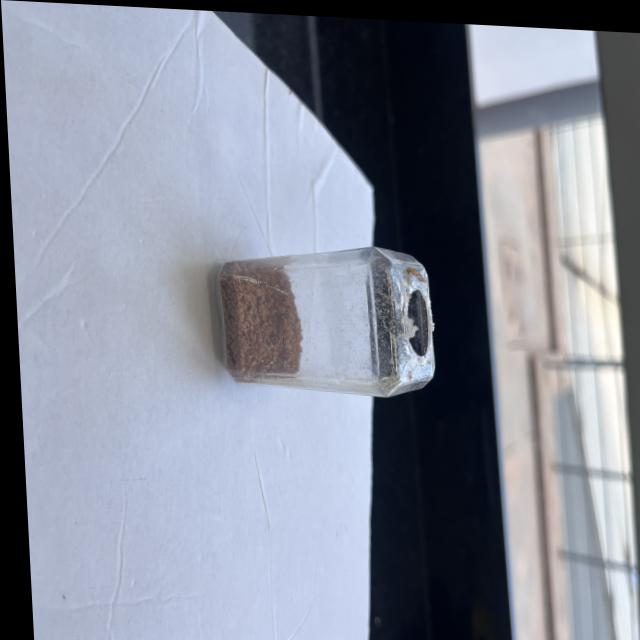maggie_open: (213, 258, 299, 380)
